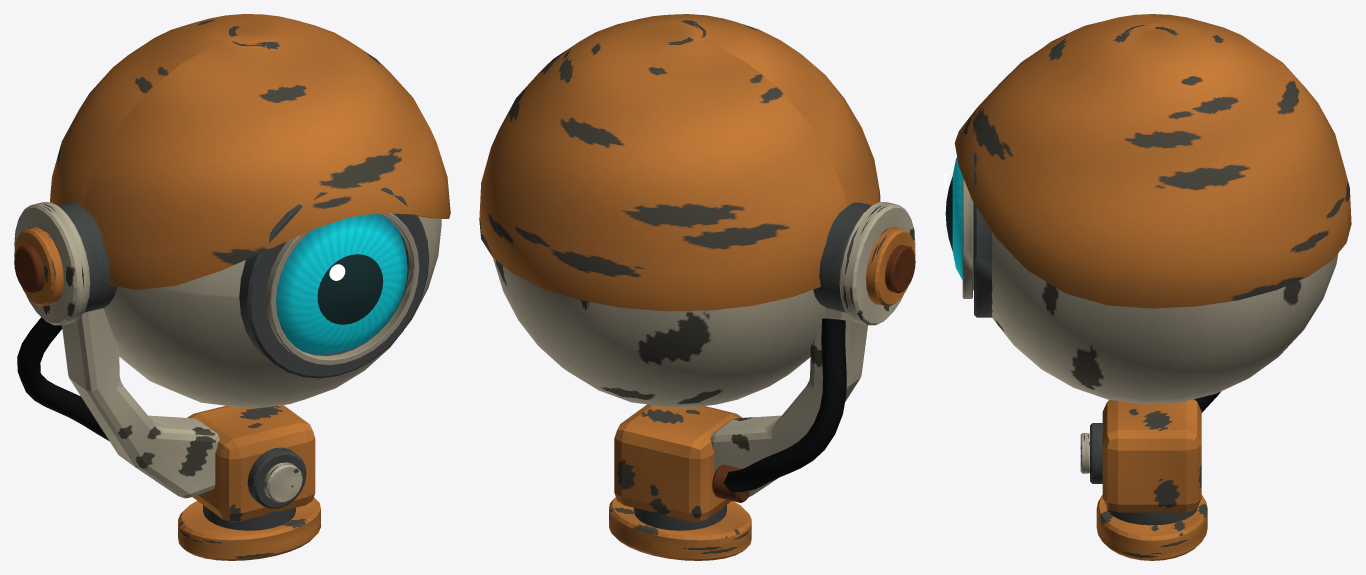
Rendered from tracker.glb.
The picture shows the model from 3 angles, left to right: view 1: azimuth 30°, elevation 25°; view 2: azimuth 150°, elevation 25°; view 3: azimuth 270°, elevation 25°; orthographic projection.
Visible parts, largest first — view 1: tracker_ochre, tracker_ivory, edge, tracker_iris, tracker_pupil, rubber, copper; view 2: tracker_ochre, tracker_ivory, rubber, edge, copper; view 3: tracker_ochre, tracker_ivory, edge, tracker_iris.
Part boxes in pixels (box(x1,y1,x2,y2)): tracker_ochre: box(14, 14, 450, 560); tracker_ivory: box(14, 202, 441, 502); edge: box(58, 184, 429, 530); tracker_iris: box(276, 214, 407, 354); tracker_pupil: box(317, 254, 383, 324); rubber: box(17, 317, 109, 441); copper: box(14, 245, 44, 293); tracker_ochre: box(479, 14, 915, 560); tracker_ivory: box(493, 202, 915, 496); rubber: box(723, 318, 846, 492); edge: box(633, 202, 871, 530); copper: box(712, 245, 915, 502); tracker_ochre: box(954, 14, 1351, 560); tracker_ivory: box(962, 176, 1338, 473); edge: box(974, 113, 1197, 525); tracker_iris: box(952, 157, 973, 290).
Size of the model in its own units: 0.2935 by 0.3542 by 0.2624.
8 materials, 6 textured.
